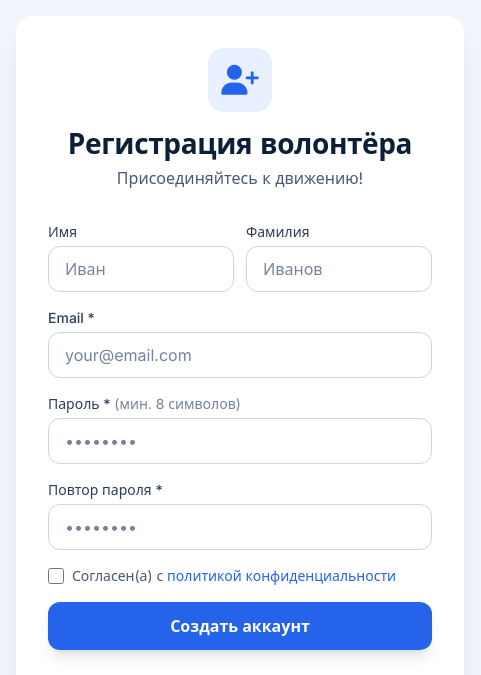
Test: RegisterPage › 202 → «Проверьте почту», not authenticated, no navigation to /profile
Type "  new.user@example.test " into the field with placeholder "your@email.com".
click(240, 355); type("  new.user@example.test ")  # box [48,332,432,378]
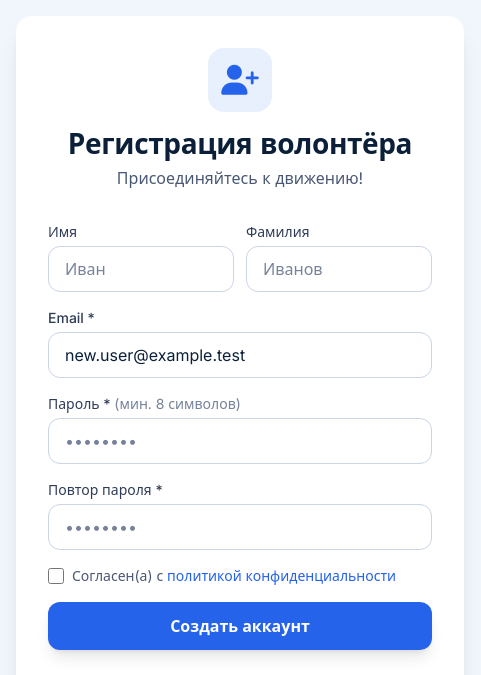
Type "Passw0rd-123" into the password field with placeholder "••••••••" below "Пароль *".
click(240, 441); type("Passw0rd-123")  # box [48,418,432,464]
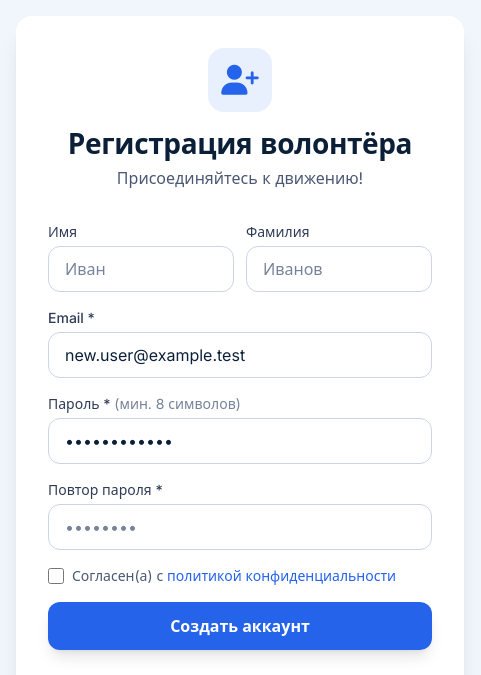
Type "Passw0rd-123" into the password field with placeholder "••••••••".
click(240, 527); type("Passw0rd-123")  # box [48,504,432,550]
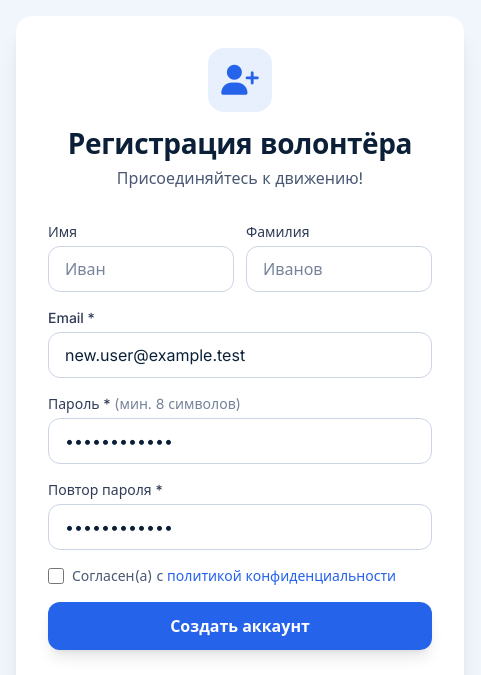
Click the checkbox.
click(56, 576)  # box [48,568,64,584]
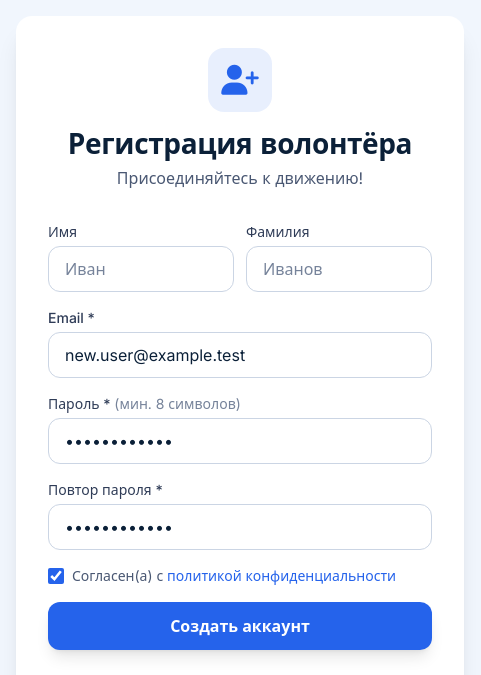
Click the button "Создать аккаунт".
click(240, 626)  # box [48,602,432,650]
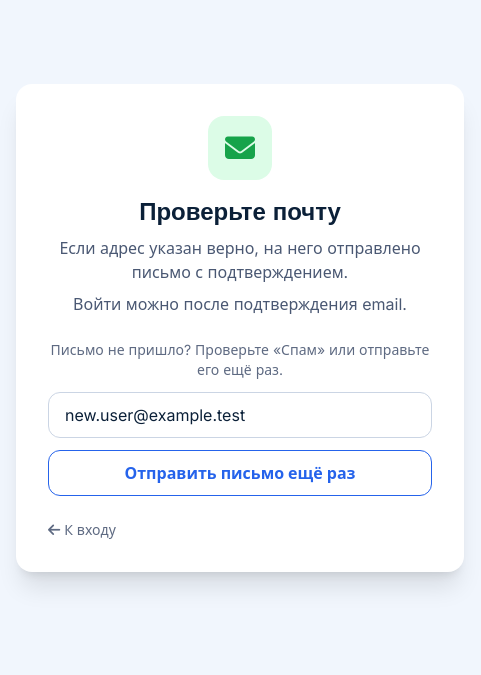
Check: the heading "Проверьте почту" is shown, box [139,197,341,226]
Check: the text "Если адрес указан верно, на него отправлено письмо с подтверждением." is shown, box [48,236,432,284]
Check: the field with placeholder "your@email.com" holds "new.user@example.test", box [48,392,432,438]
